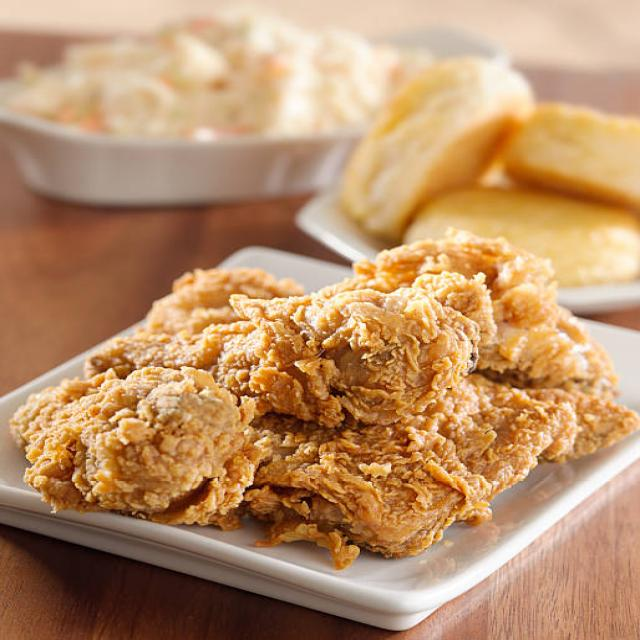Frango: (3, 228, 640, 566)
